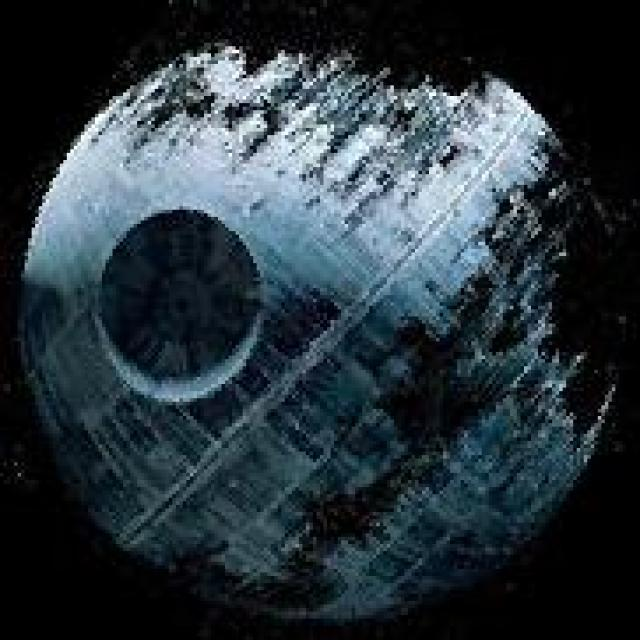Death Star: (7, 25, 622, 622)
